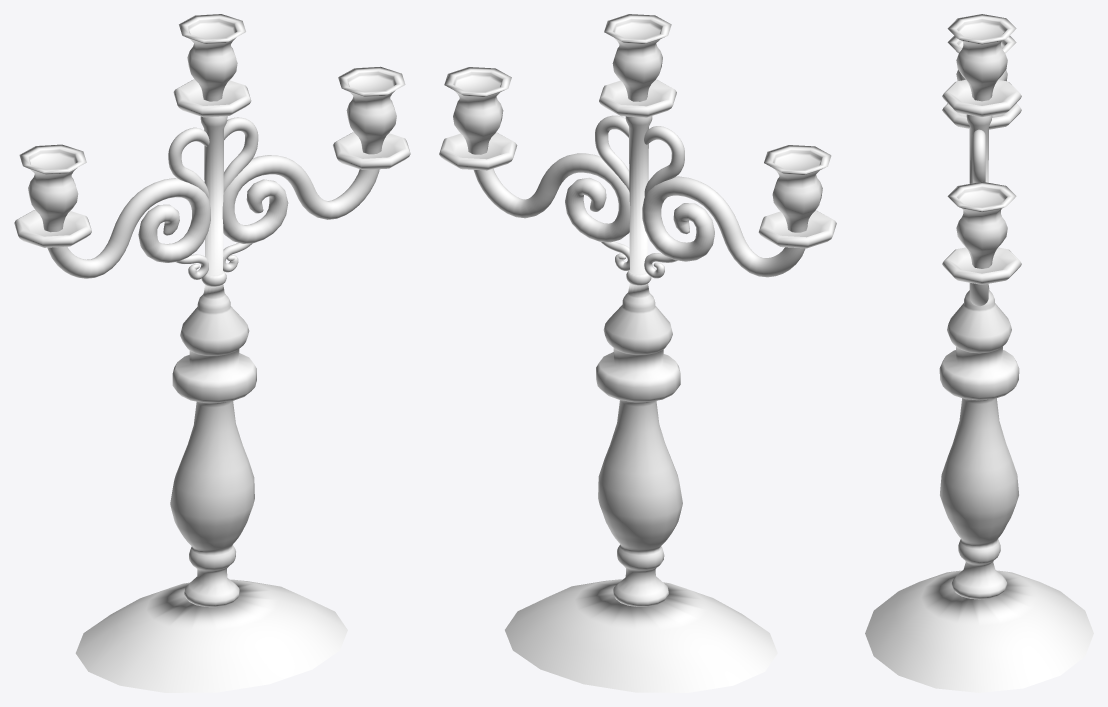
Rendered from candelabro de mesa.fbx.
3 renders of one model, left to right at view 1: azimuth 30°, elevation 25°; view 2: azimuth 150°, elevation 25°; view 3: azimuth 270°, elevation 25°, orthographic.
Parts seen in each view (by area): view 1: Sphere; view 2: Sphere; view 3: Sphere.
Part boxes in pixels (box(x1,y1,x2,y2)): Sphere: box(14, 14, 410, 692); Sphere: box(439, 14, 836, 692); Sphere: box(865, 14, 1093, 692).
Bounding box in the file's own units: 28.97 × 43.61 × 14.94.
Materials: 1 (1 with a texture image).
